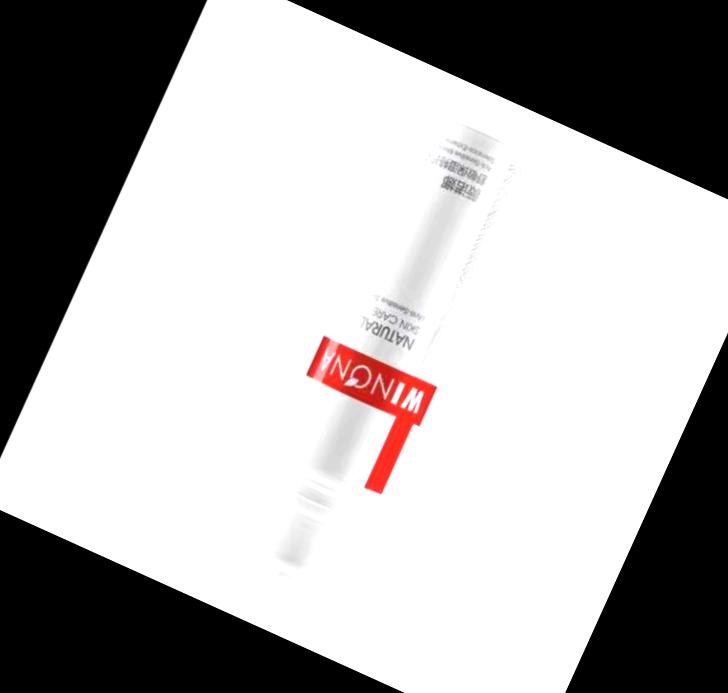cosmetic: (212, 104, 544, 628)
